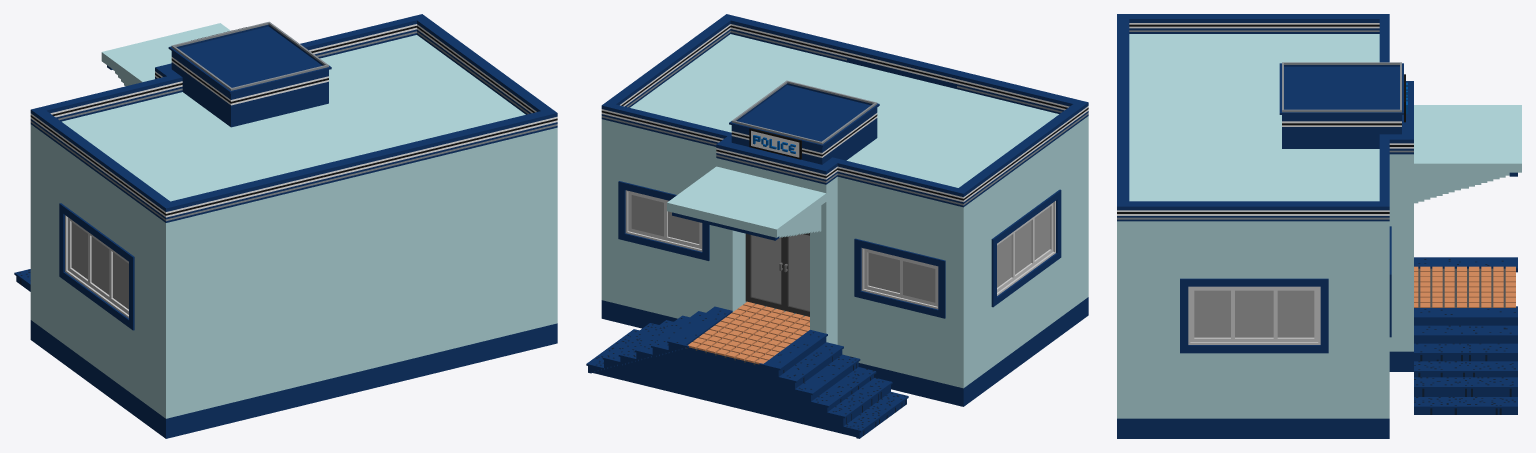
The model's file is police_station-1.obj.
The picture shows the model from 3 angles, left to right: view 1: azimuth 30°, elevation 25°; view 2: azimuth 150°, elevation 25°; view 3: azimuth 270°, elevation 25°; orthographic projection. The views are drawn at different scales.
Bounding box in the file's own units: 22.6 × 13.9 × 19.9.
Materials: 1 (1 with a texture image).
